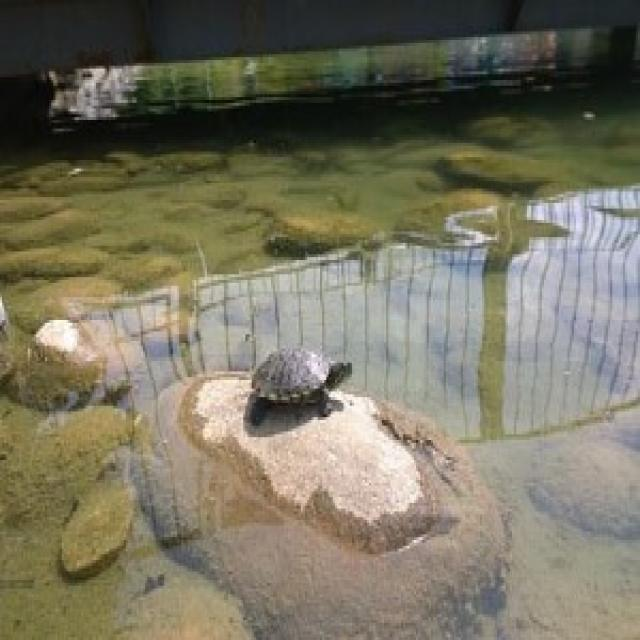Sea turtle: (223, 342, 368, 421)
